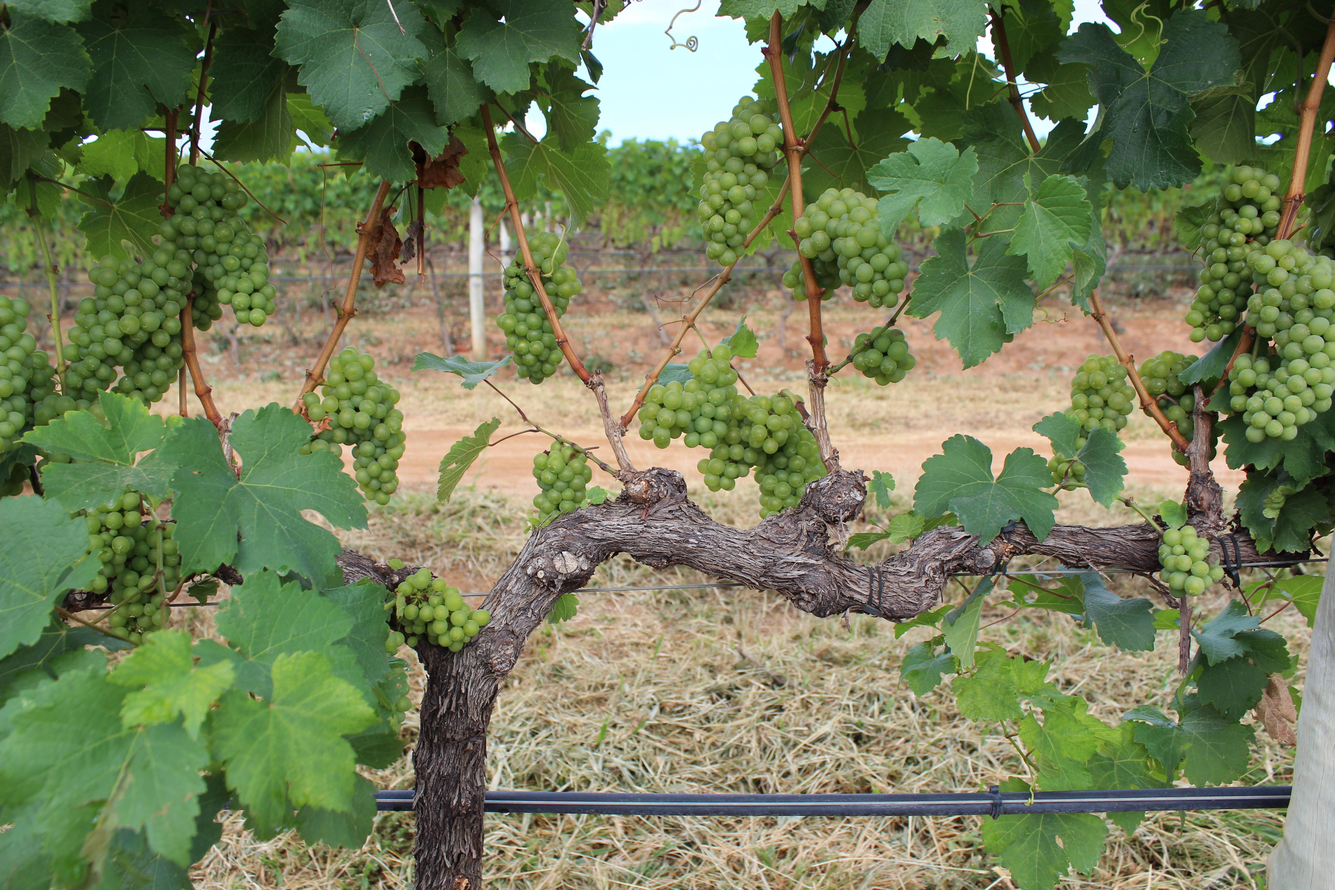leaf: (0, 671, 209, 865), (158, 403, 366, 583), (1058, 10, 1240, 190), (212, 651, 374, 832), (274, 0, 427, 130), (907, 228, 1036, 368), (25, 392, 176, 510), (0, 497, 100, 657), (915, 435, 1057, 543), (77, 3, 195, 131), (110, 630, 235, 738), (457, 0, 581, 93), (867, 138, 978, 237), (0, 9, 91, 129), (338, 86, 448, 182), (501, 133, 610, 228), (209, 0, 288, 124), (1007, 175, 1093, 288), (982, 813, 1107, 889), (858, 0, 987, 61), (78, 171, 163, 259), (1079, 573, 1155, 651), (423, 38, 489, 125), (542, 64, 599, 153), (1195, 656, 1268, 721), (1192, 600, 1260, 664), (1078, 427, 1127, 507), (901, 637, 958, 696), (1032, 413, 1081, 457), (7, 0, 93, 23), (867, 470, 895, 509), (424, 35, 433, 44), (229, 21, 232, 24), (938, 245, 939, 251), (419, 356, 420, 358)
